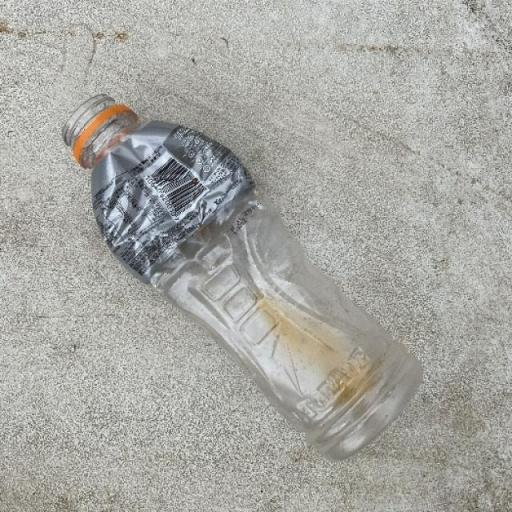plastic: (60, 92, 424, 461)
